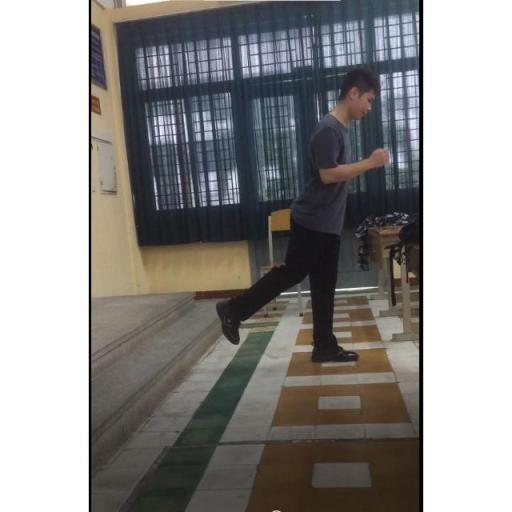Running: (207, 61, 396, 371)
